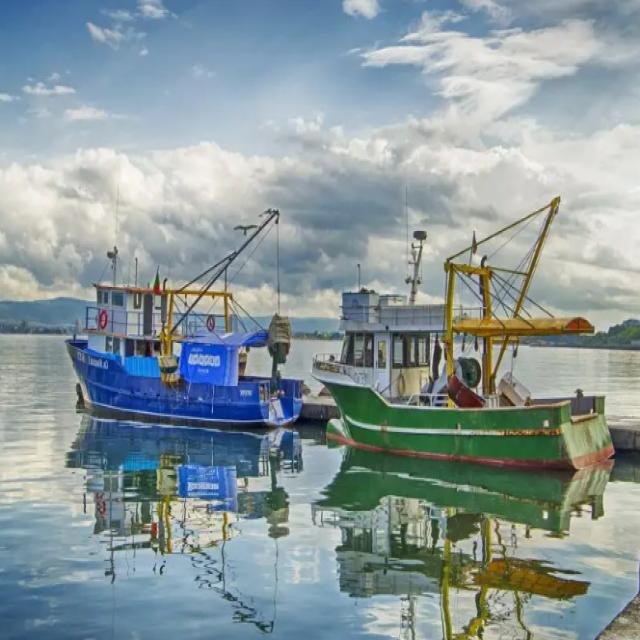fishing boat: (312, 195, 617, 473), (70, 207, 299, 428)
